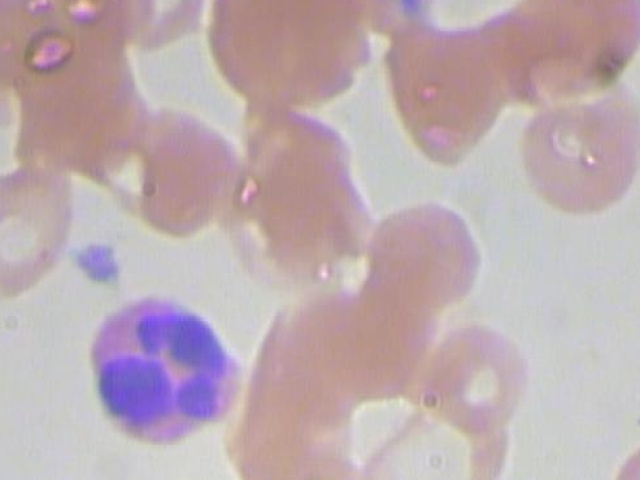Platelets: (58, 231, 126, 298)
RBC: (367, 19, 508, 182), (507, 68, 640, 225), (196, 0, 368, 116), (110, 99, 239, 245), (239, 277, 368, 423), (243, 130, 372, 276), (465, 0, 640, 107), (355, 189, 502, 315), (354, 383, 521, 480), (426, 316, 537, 440), (215, 406, 382, 480), (0, 150, 81, 296), (75, 0, 208, 66), (0, 0, 59, 107), (598, 426, 640, 480)
WBC: (79, 293, 258, 450)
